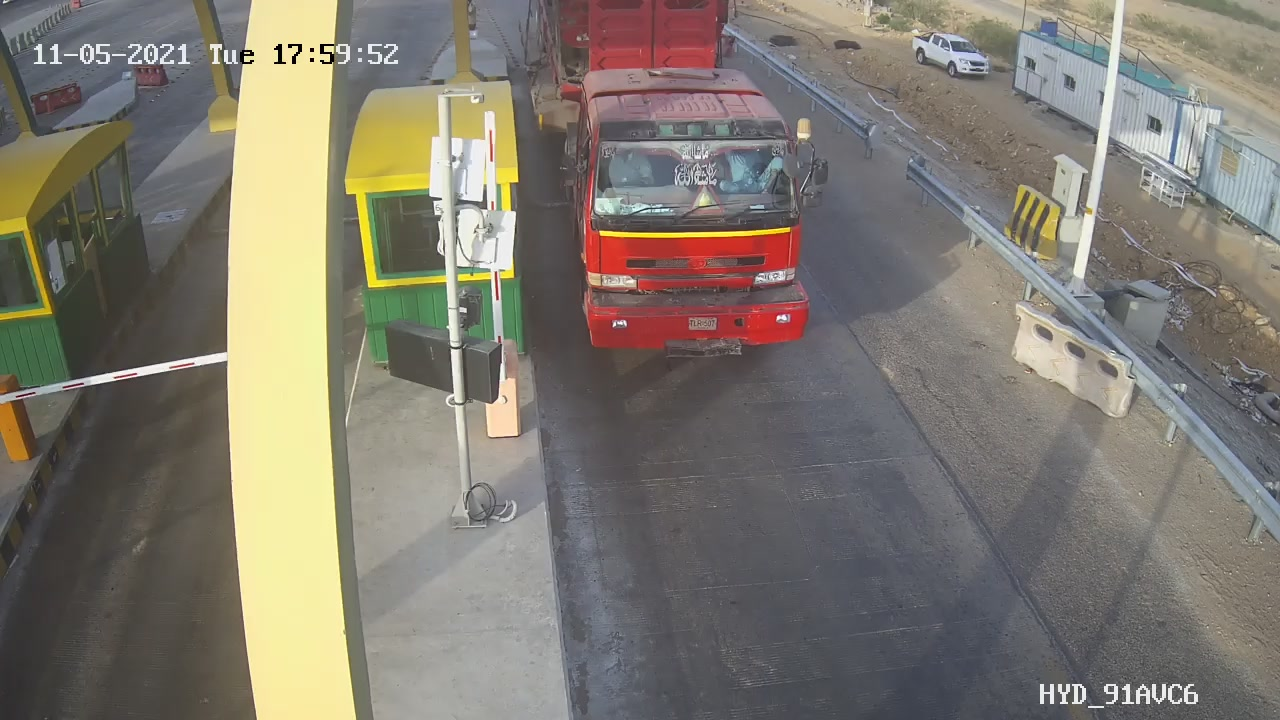F6: (518, 1, 843, 371)
